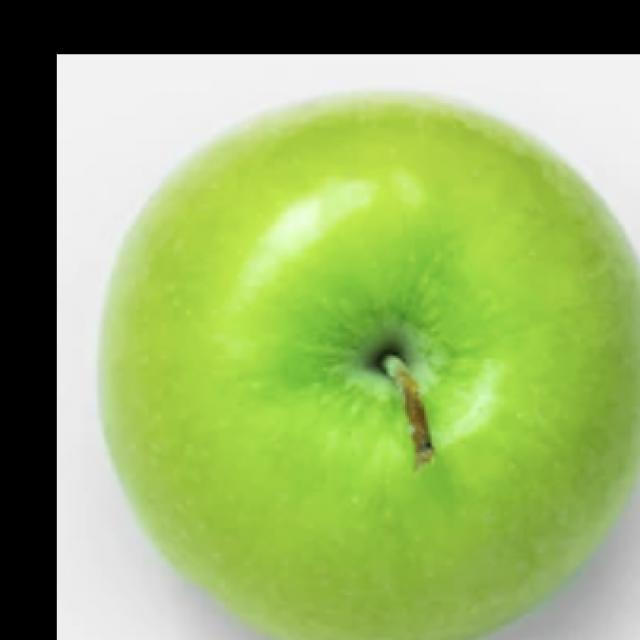Fresh Apple: (133, 111, 640, 639)
